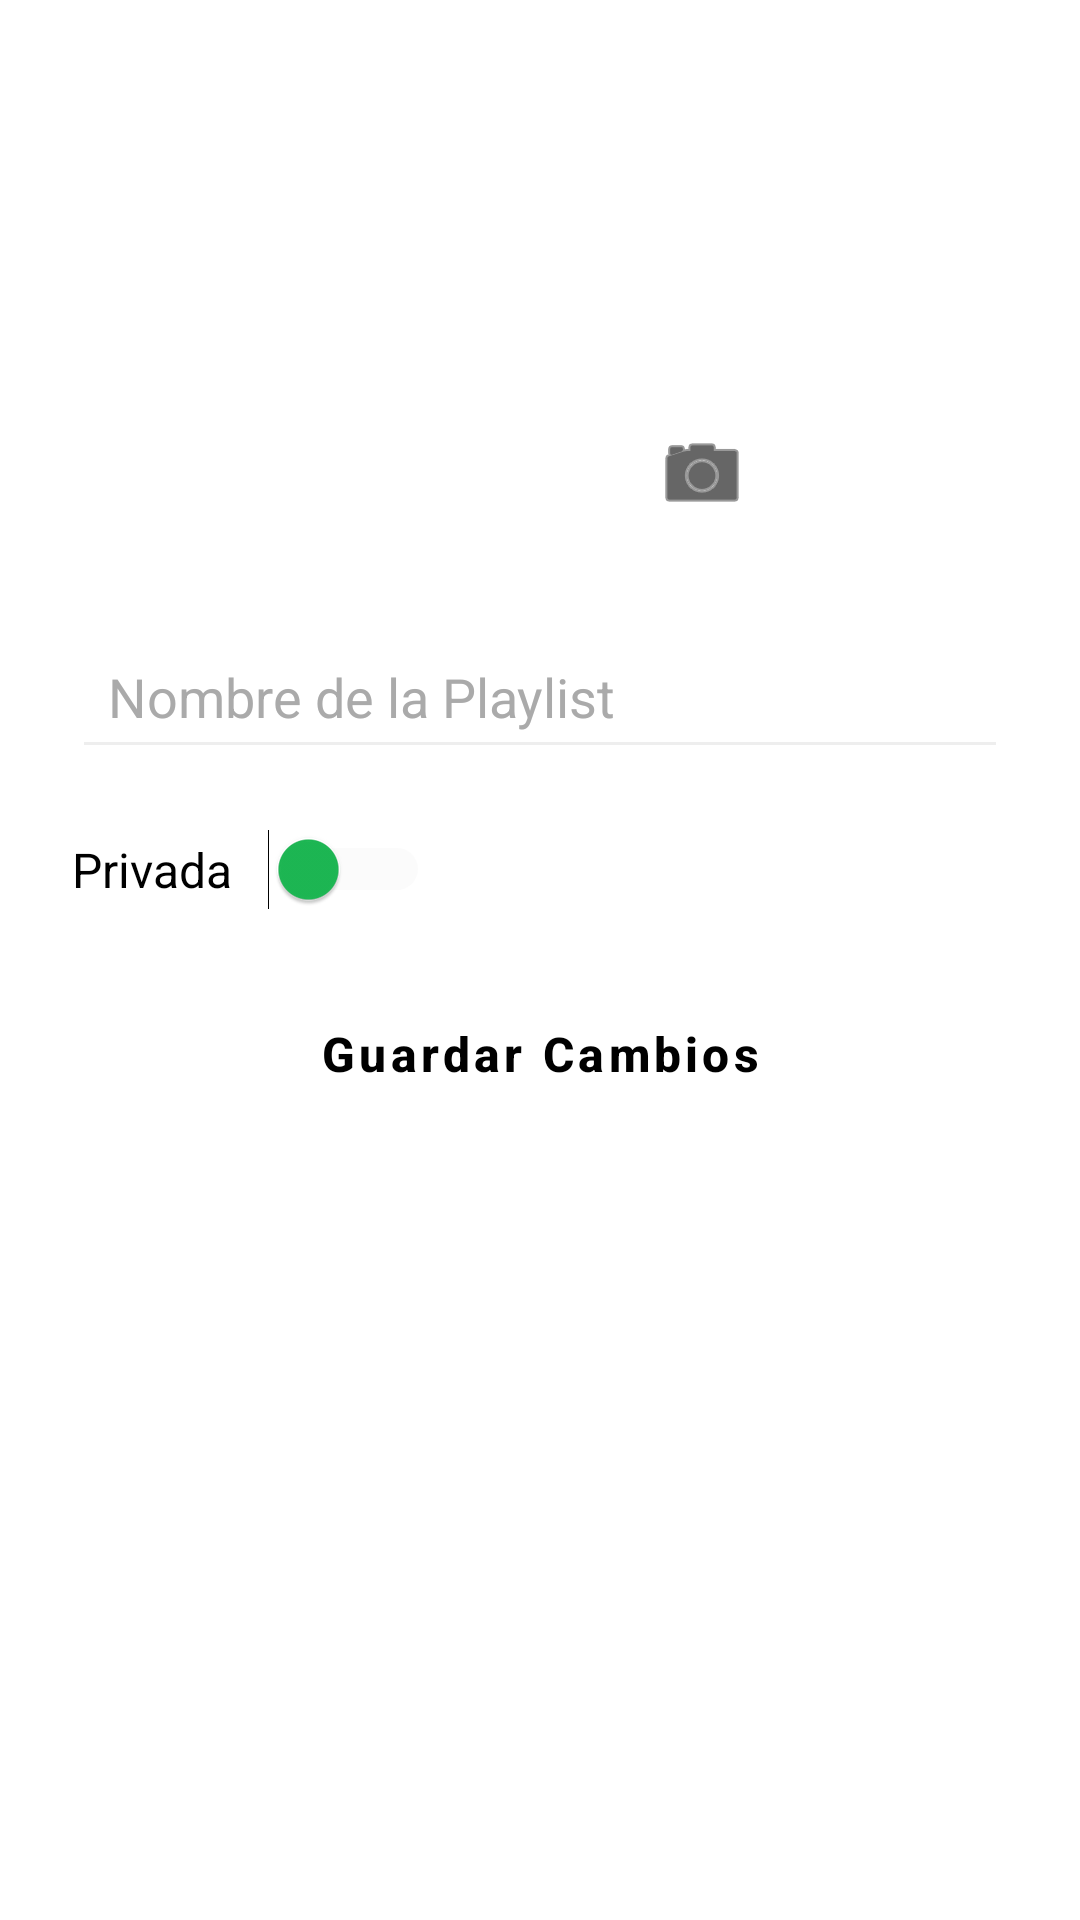

Icons on this 1080*1920 Android screen, each with its box as (x1,y1,x2,y2):
Cambiar imagen: (665,443,739,502)
